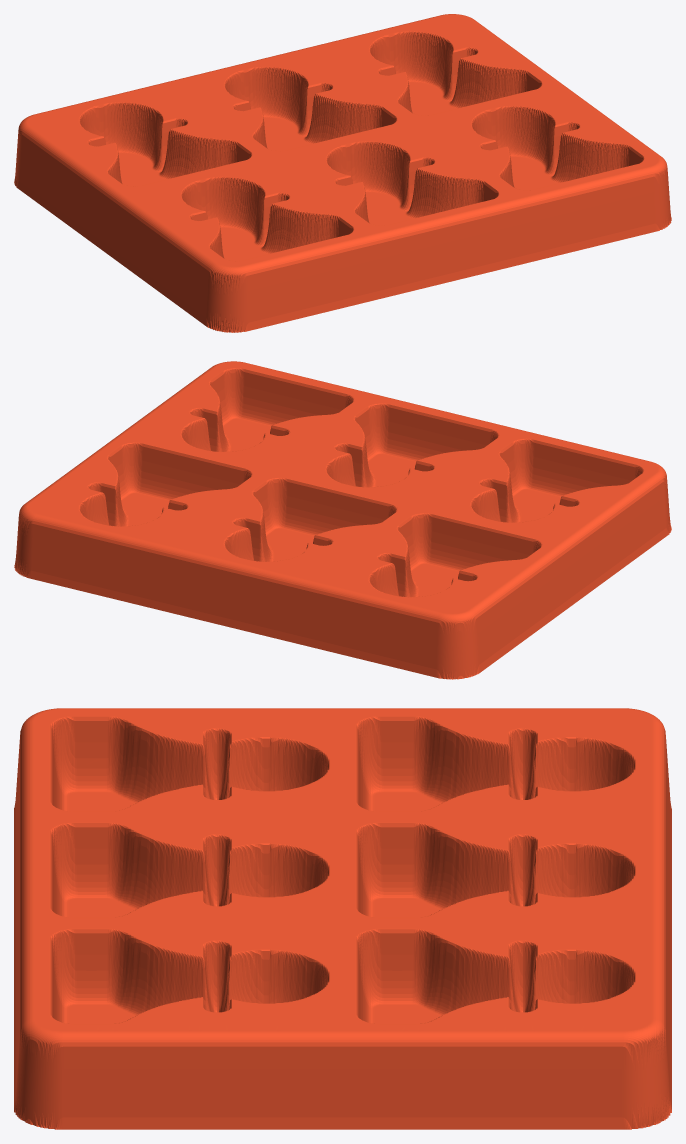
Rendered from mold.glb.
3 views of the same model, one above another, from view 1: azimuth 30°, elevation 25°; view 2: azimuth 150°, elevation 25°; view 3: azimuth 270°, elevation 25° (orthographic). The views are drawn at different scales.
Visible parts, largest first — view 1: geometry_0; view 2: geometry_0; view 3: geometry_0.
Boxes of the visible parts, left/top/right/bottom form: geometry_0: left=14, top=14, right=671, bottom=332; geometry_0: left=14, top=361, right=671, bottom=679; geometry_0: left=14, top=708, right=671, bottom=1129.
Bounding box in the file's own units: 0.1487 × 0.0185 × 0.1222.
